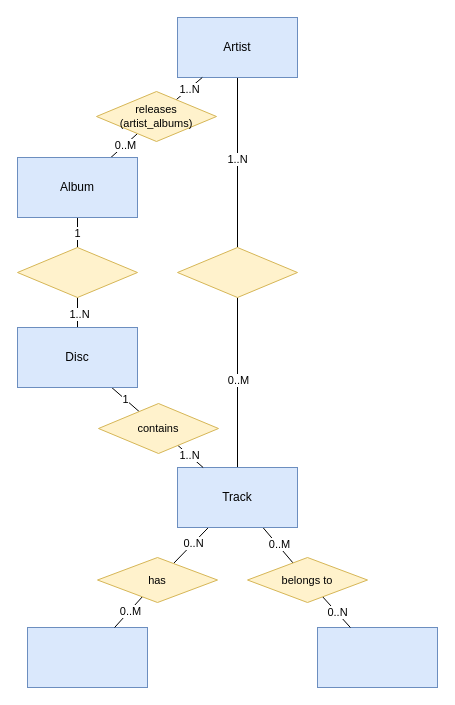
Image size: 455x705. Some labels were removed from this diagram. Here are the shapes that lost their labels. From the top down, the centre of each, then its label:
At (77,272): "consists of".
At (237,272): "composed (artist_tracks)".
At (87,657): "Genre".
At (377,657): "Playlist".
